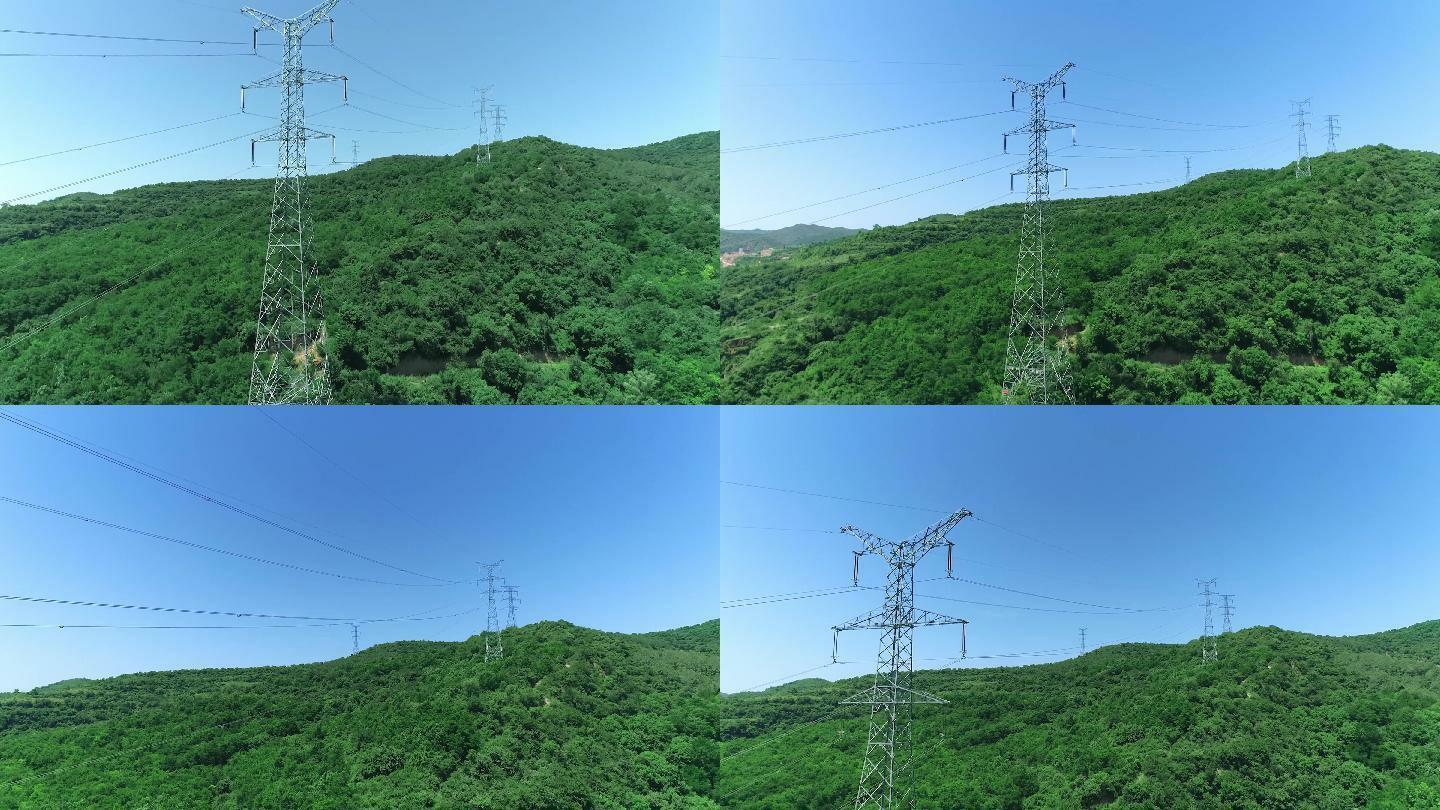power_tower: (821, 503, 996, 806), (226, 0, 357, 394), (976, 57, 1101, 411), (469, 557, 507, 661), (1286, 94, 1322, 189), (1191, 577, 1221, 661), (497, 580, 528, 639), (330, 616, 373, 657), (476, 83, 497, 166), (1321, 111, 1346, 164), (1181, 150, 1198, 193)
